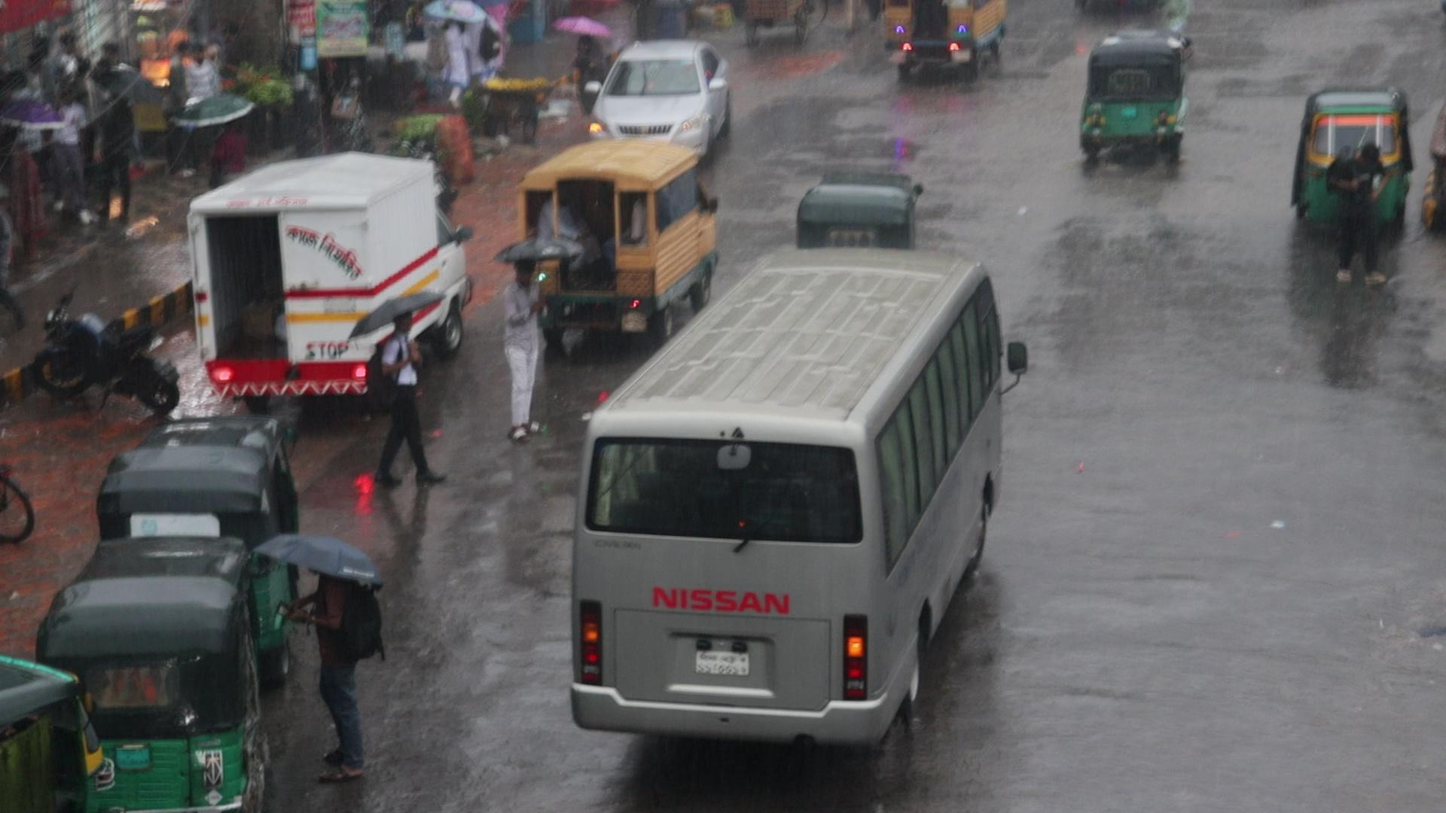Bus: (567, 245, 1029, 773)
Car: (589, 29, 732, 155)
Truck: (505, 134, 717, 353), (865, 0, 1016, 90)
